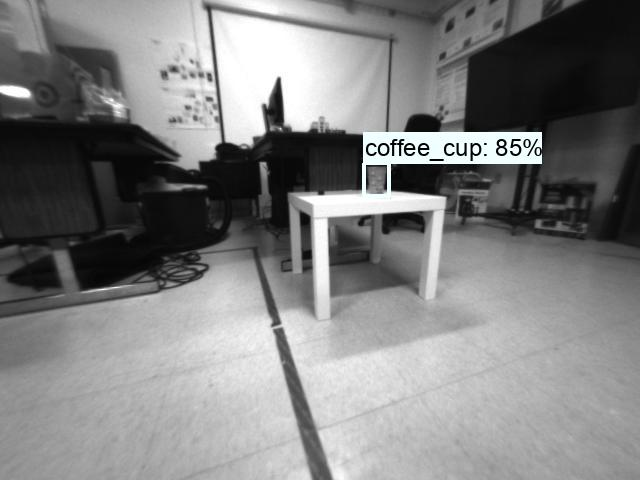coffee_cup: (363, 163, 389, 198)
